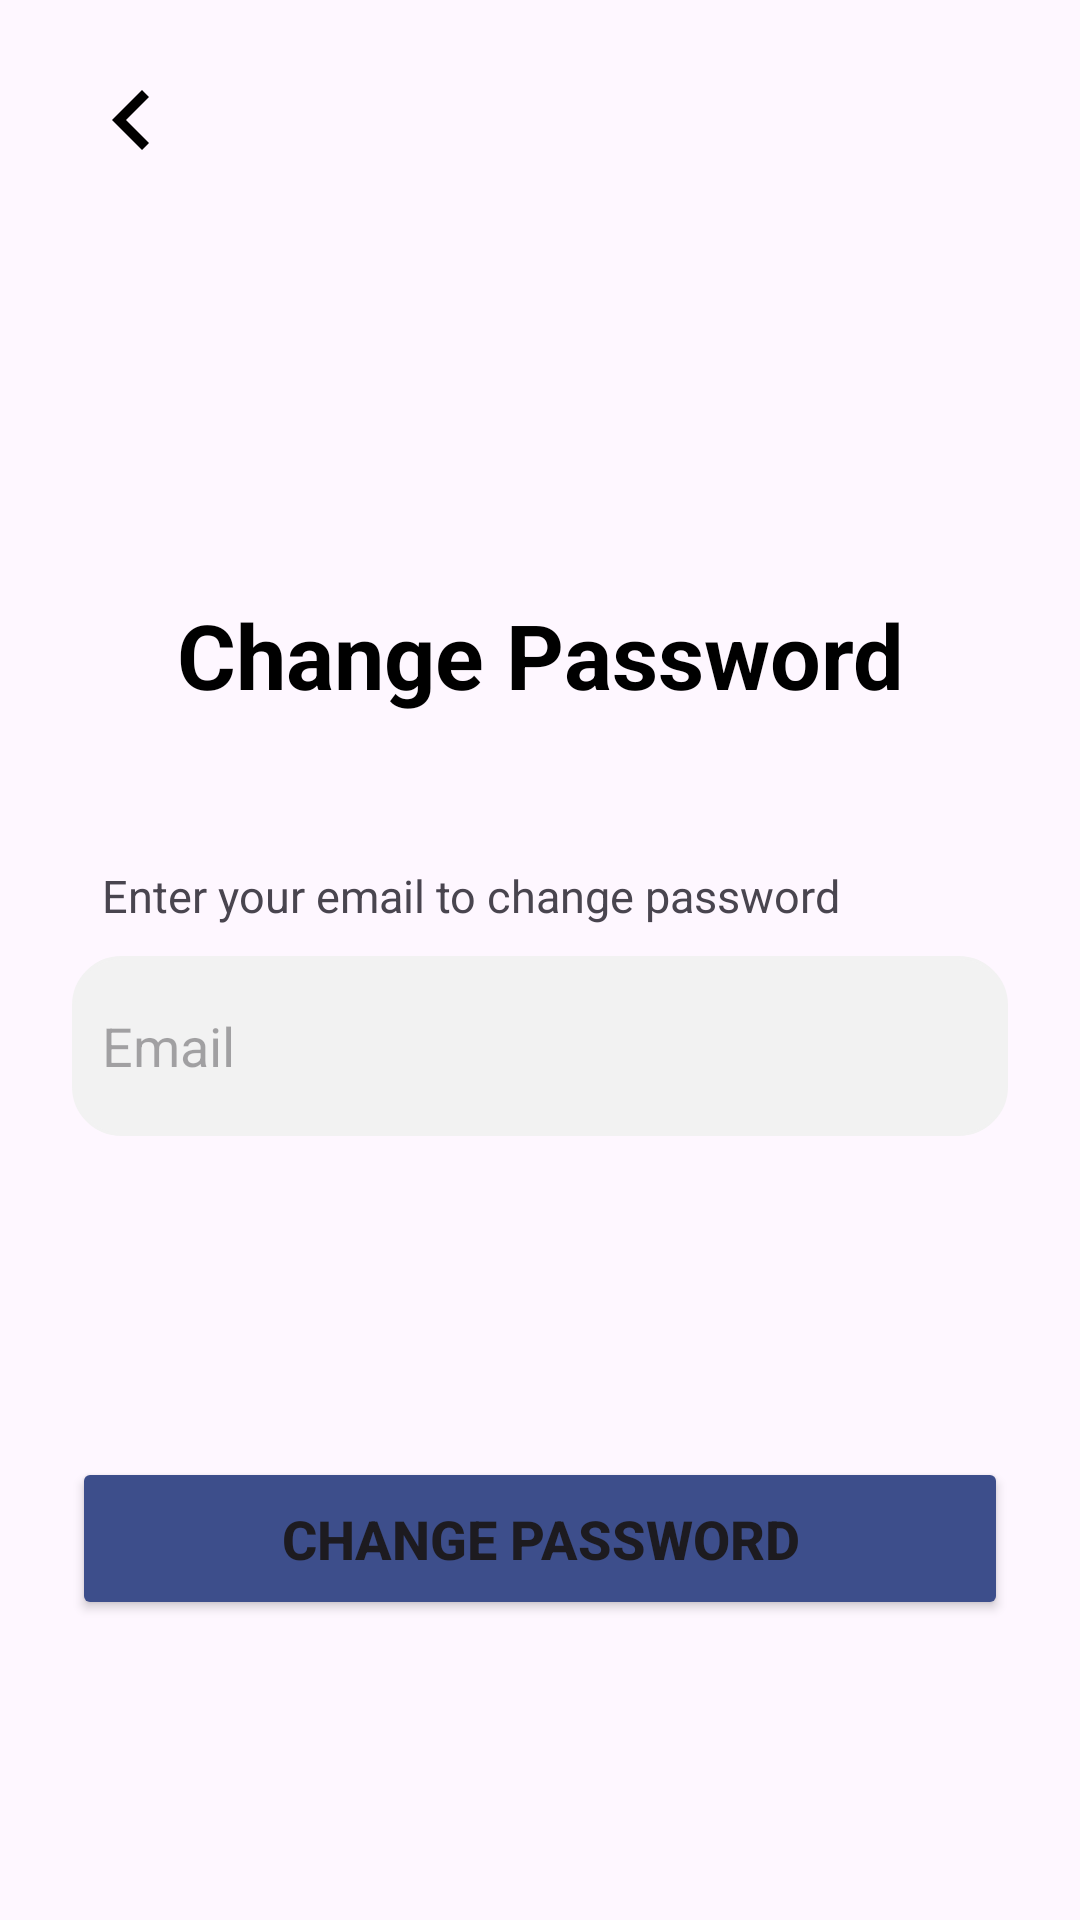

Icons on this 1080w x 1920h Android screen, each with its box as box=[x1, y1, x2, y2]:
arrow left: box=[112, 90, 149, 150]
